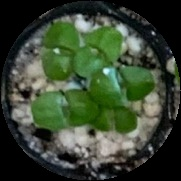Basil: (30, 88, 95, 129), (95, 65, 154, 105), (39, 21, 78, 79), (73, 28, 118, 73), (91, 101, 139, 134)
